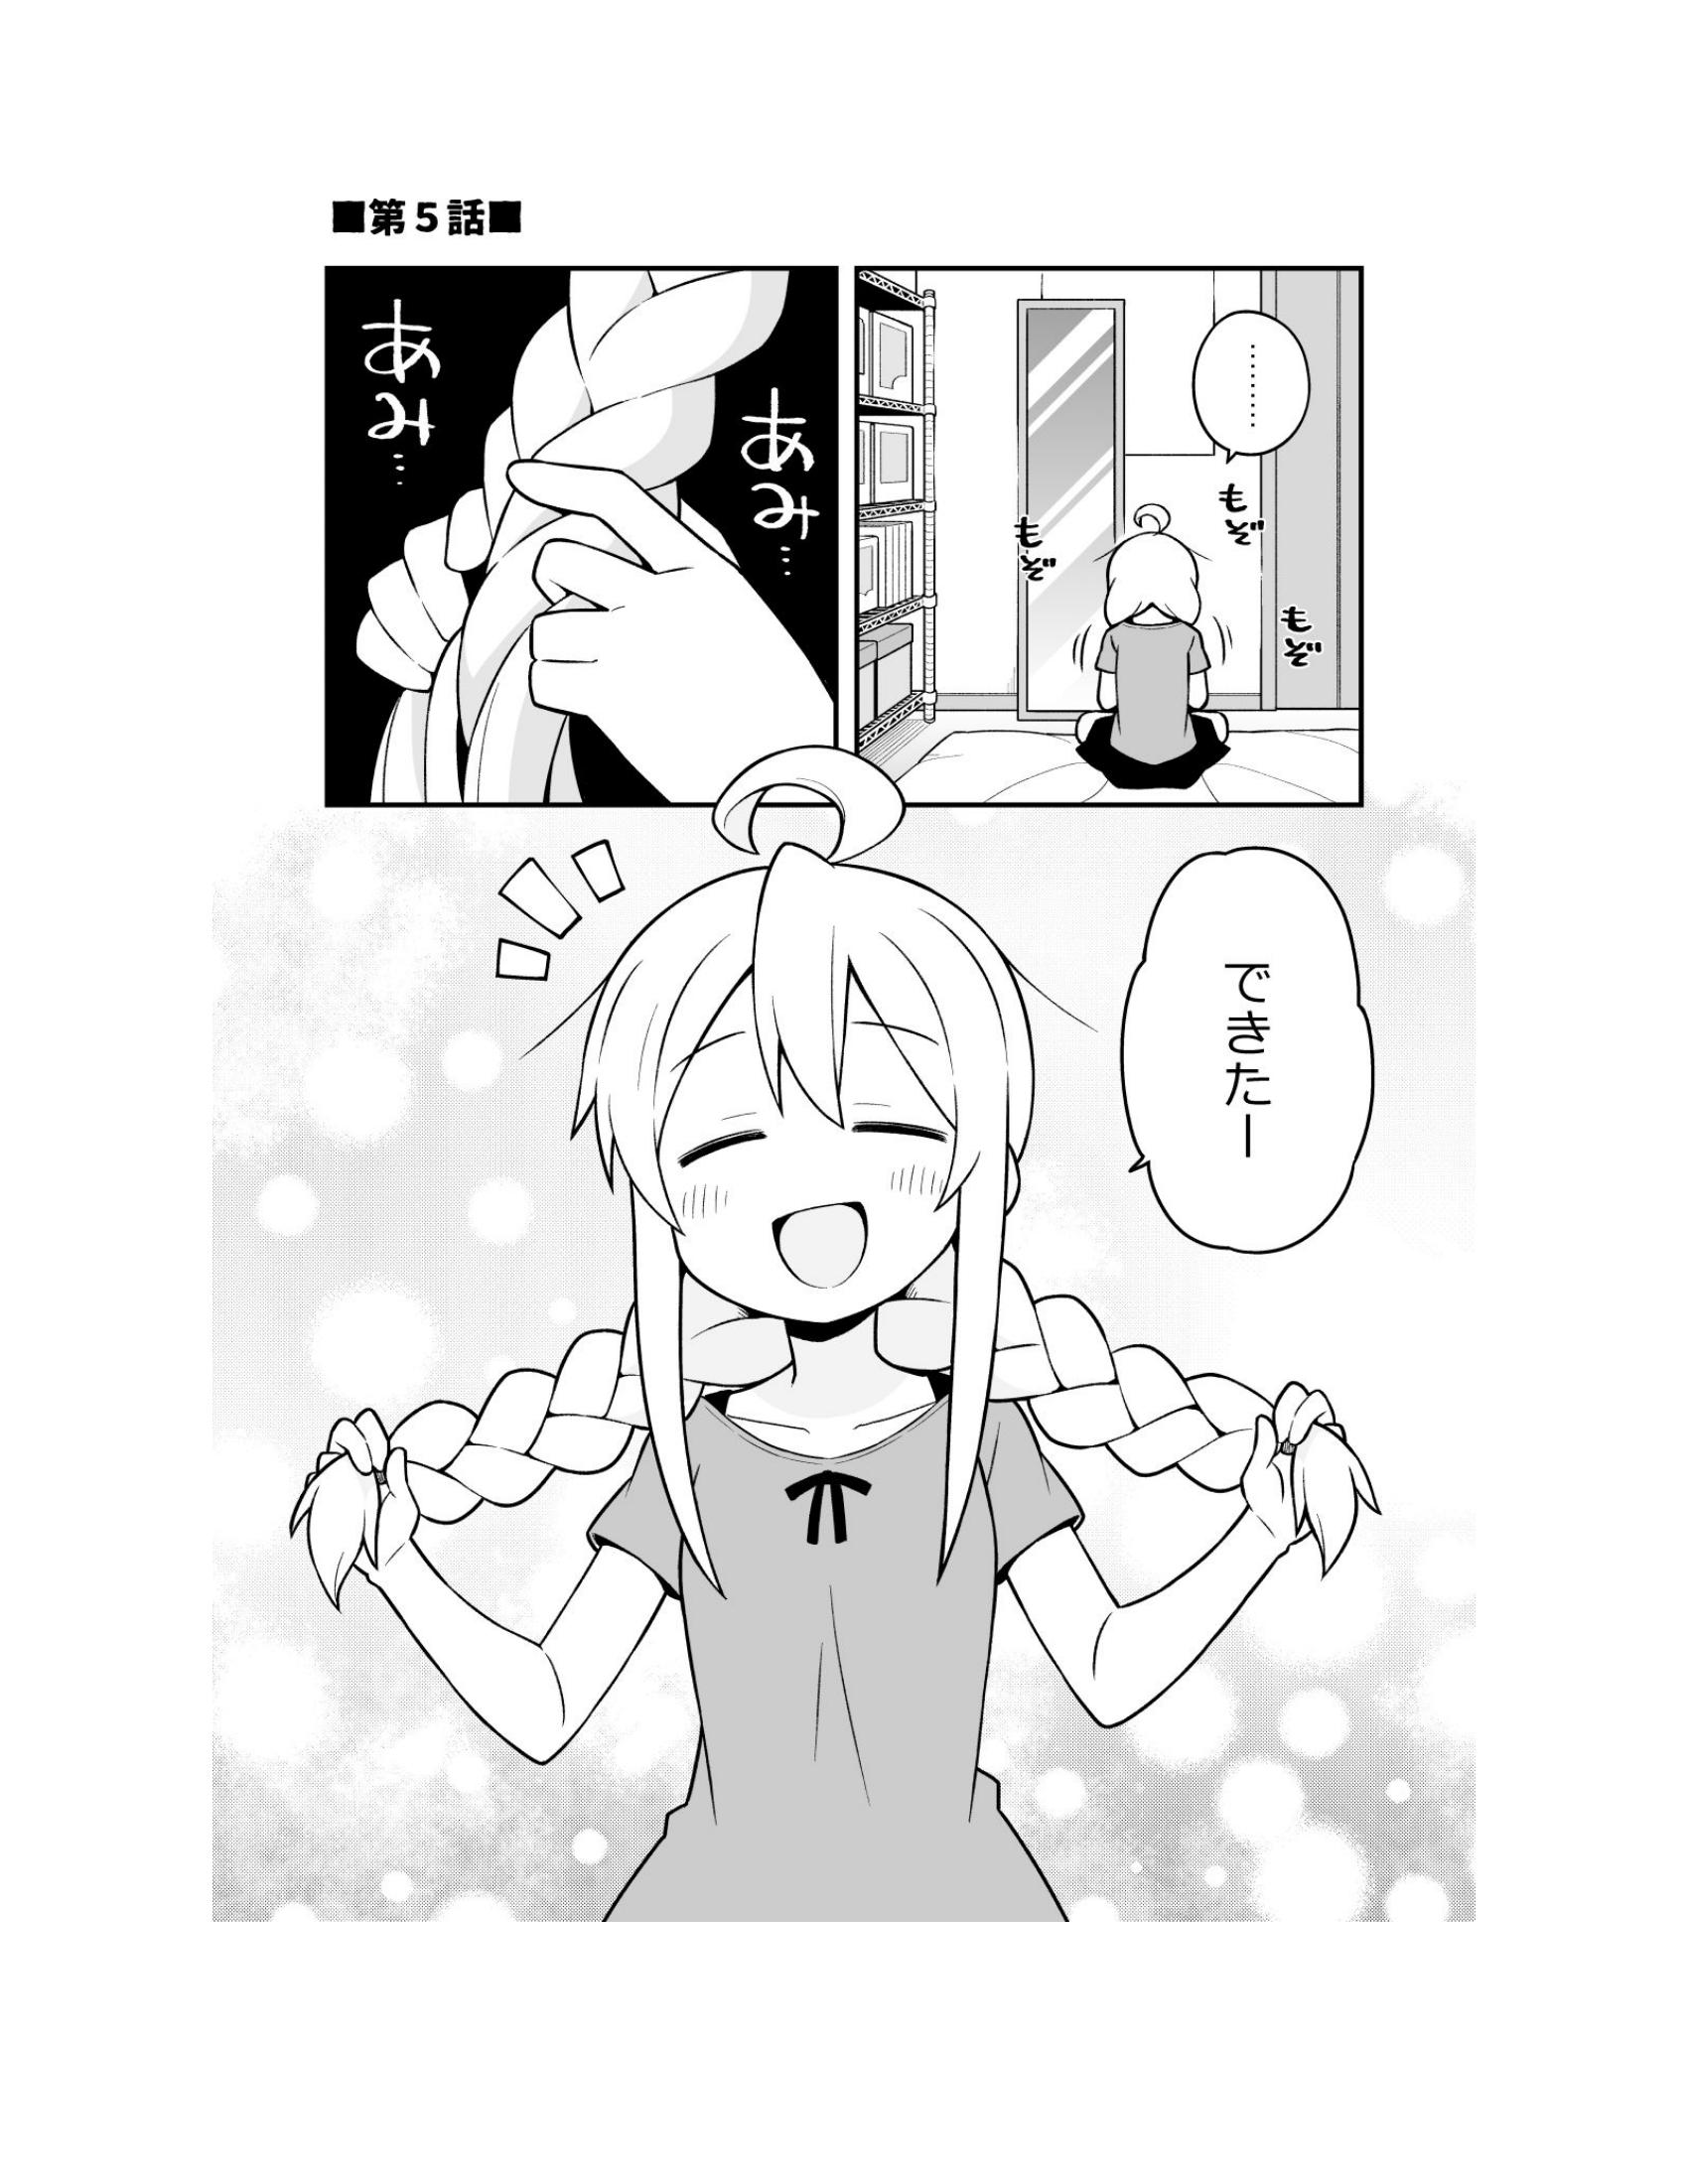a: (1129, 838, 1369, 1312)
